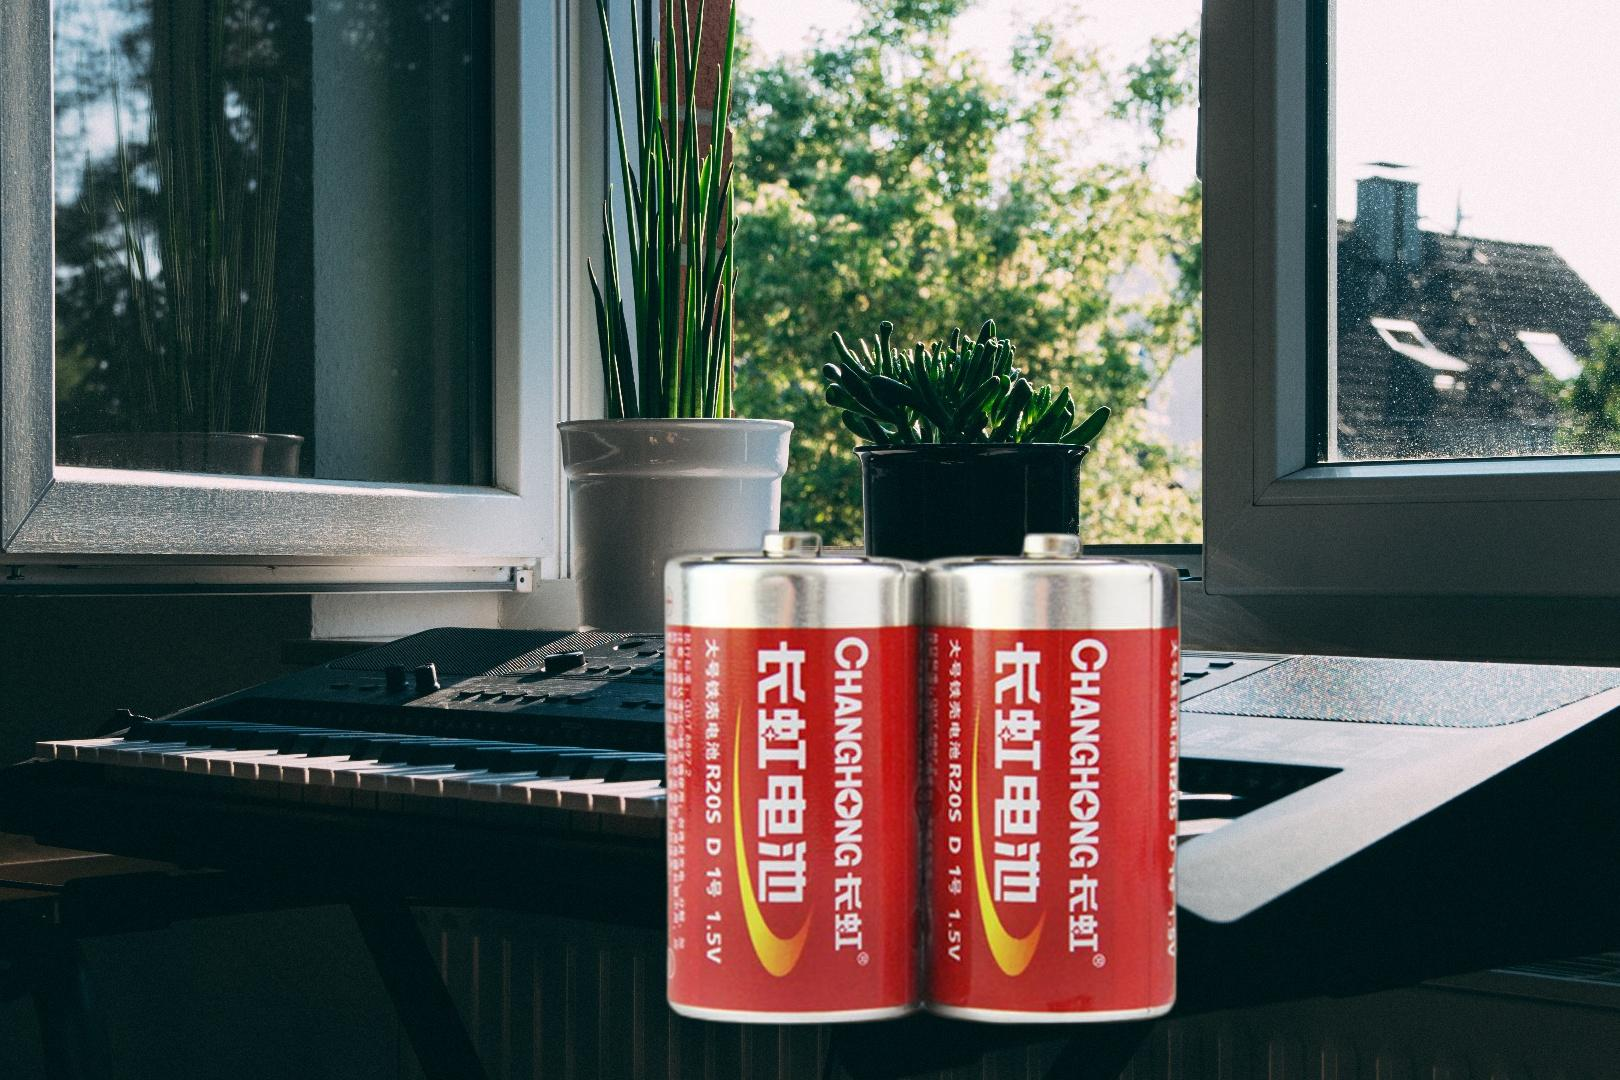battery: (656, 524, 1188, 1031)
